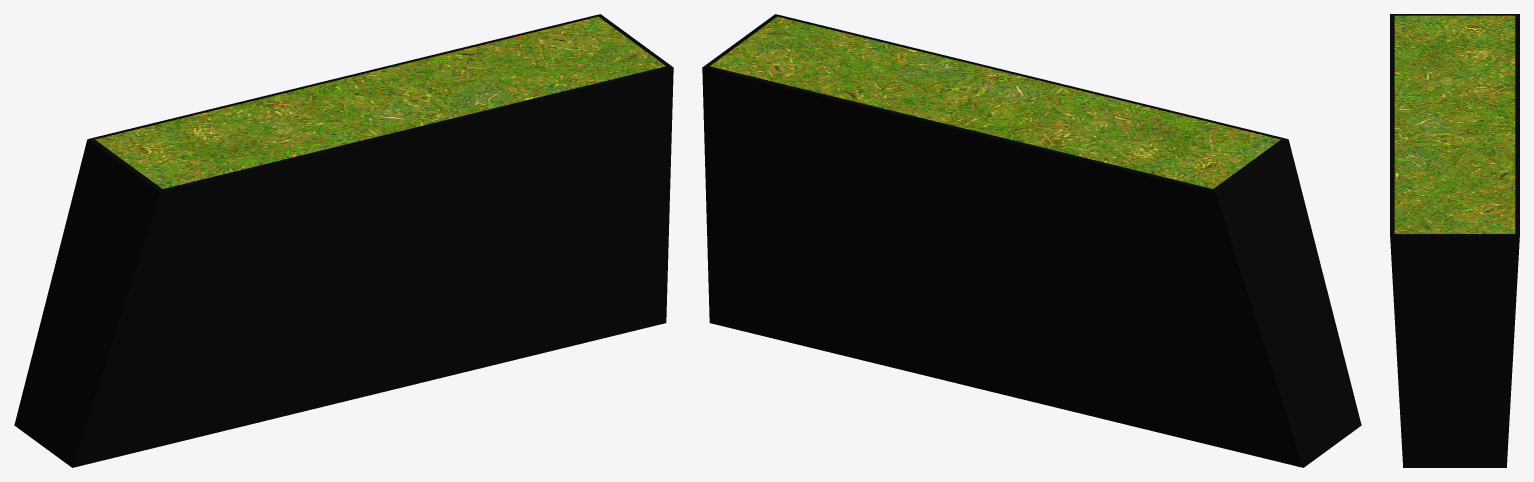
Rendered from W_O_Playground_Glassbed_002_L2.fbx.
3 views of the same model, side by side, from view 1: azimuth 30°, elevation 25°; view 2: azimuth 150°, elevation 25°; view 3: azimuth 270°, elevation 25° (orthographic). The views are drawn at different scales.
Parts seen in each view (by area): view 1: W_O_Playground_Glassbed_002_L2; view 2: W_O_Playground_Glassbed_002_L2; view 3: W_O_Playground_Glassbed_002_L2.
Part boxes in pixels (left/top/right/bottom): W_O_Playground_Glassbed_002_L2: left=14, top=14, right=673, bottom=467; W_O_Playground_Glassbed_002_L2: left=702, top=14, right=1361, bottom=467; W_O_Playground_Glassbed_002_L2: left=1390, top=14, right=1519, bottom=467.
Size of the model in its own units: 1.48 by 0.6212 by 0.3147.
